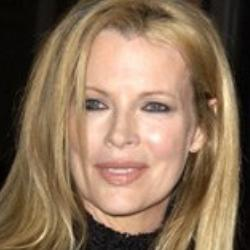face: (11, 4, 242, 242)
